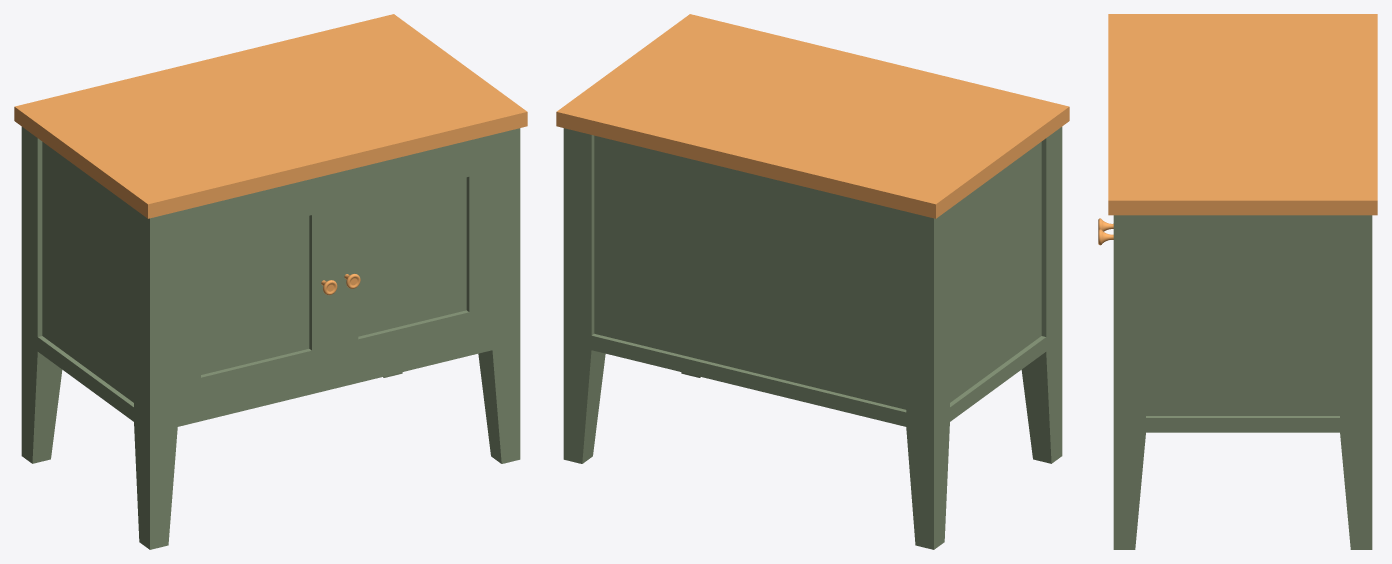
File: end_table.dae
The picture shows the model from 3 angles, left to right: view 1: azimuth 30°, elevation 25°; view 2: azimuth 150°, elevation 25°; view 3: azimuth 270°, elevation 25°; orthographic projection.
Parts seen in each view (by area): view 1: group_0 (×5); view 2: group_0 (×2); view 3: group_0 (×2).
Boxes of the visible parts, x1,y1,x2,y2 form: group_0 (×5): (14, 14, 527, 549); group_0 (×2): (556, 14, 1069, 549); group_0 (×2): (1108, 14, 1377, 549).
Size of the model in its own units: 20.5 by 12.97 by 18.
